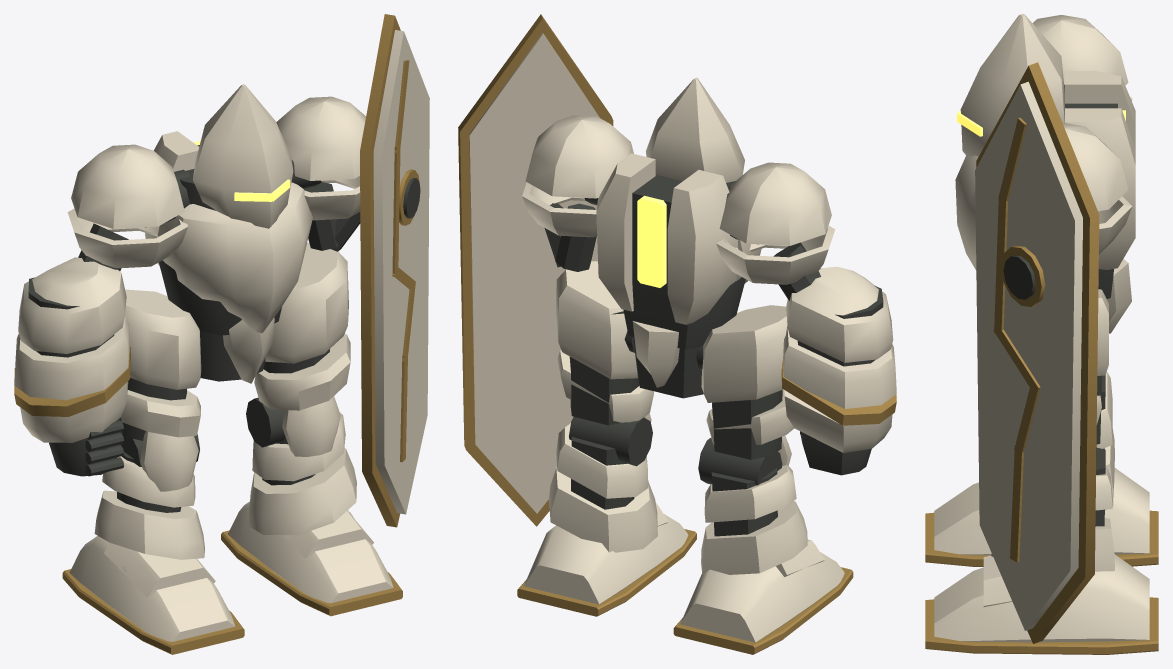
Rendered from banki_shield.glb.
3 renders of one model, left to right at view 1: azimuth 30°, elevation 25°; view 2: azimuth 150°, elevation 25°; view 3: azimuth 270°, elevation 25°, orthographic. The views are drawn at different scales.
Visible parts, largest first — view 1: body, shield, forearm_r, shin_l, shield_brass, thigh_l, foot_r, shin_r, head, thigh_r, foot_l, body_dark (+8 smaller); view 2: body, shield, forearm_r, foot_r, body_dark, thigh_r, shin_l, thigh_l, shin_r, shield_brass, foot_l, head (+10 smaller); view 3: shield, body, shield_brass, foot_l, head, foot_r, foot_l_brass, foot_r_brass, shin_l, shin_r, shield_dark, thigh_l (+2 smaller).
Boxes of the visible parts, <box> form: body: <box>67,96,365,383</box>; shield: <box>373,29,429,514</box>; forearm_r: <box>14,257,129,442</box>; shin_l: <box>248,396,356,535</box>; shield_brass: <box>360,14,419,527</box>; thigh_l: <box>254,242,350,410</box>; foot_r: <box>69,536,235,641</box>; shin_r: <box>94,431,204,559</box>; head: <box>193,84,293,228</box>; thigh_r: <box>121,289,201,437</box>; foot_l: <box>228,501,393,603</box>; body_dark: <box>145,145,360,381</box>; body: <box>522,115,835,387</box>; shield: <box>469,33,599,513</box>; forearm_r: <box>783,266,896,452</box>; foot_r: <box>680,539,844,642</box>; body_dark: <box>544,175,758,398</box>; thigh_r: <box>701,305,794,445</box>; shin_l: <box>549,413,657,552</box>; thigh_l: <box>555,261,653,422</box>; shin_r: <box>701,435,807,574</box>; shield_brass: <box>458,14,613,526</box>; foot_l: <box>524,503,688,604</box>; head: <box>646,77,744,182</box>; shield: <box>975,81,1082,630</box>; body: <box>955,15,1135,333</box>; shield_brass: <box>976,62,1099,643</box>; foot_l: <box>934,554,1149,642</box>; head: <box>960,14,1064,156</box>; foot_r: <box>934,468,1149,555</box>; foot_l_brass: <box>925,597,1158,654</box>; foot_r_brass: <box>925,510,1158,566</box>; shin_l: <box>991,467,1114,571</box>; shin_r: <box>1096,372,1114,510</box>; shield_dark: <box>1003,255,1035,299</box>; thigh_l: <box>1096,289,1108,424</box>.
Size of the model in its own units: 1.54 by 1.89 by 0.66.
